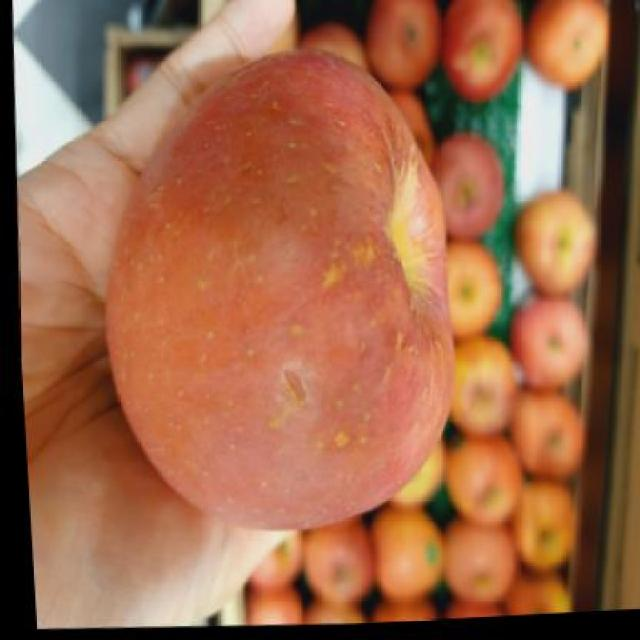Fresh Apple: (115, 54, 451, 537)
